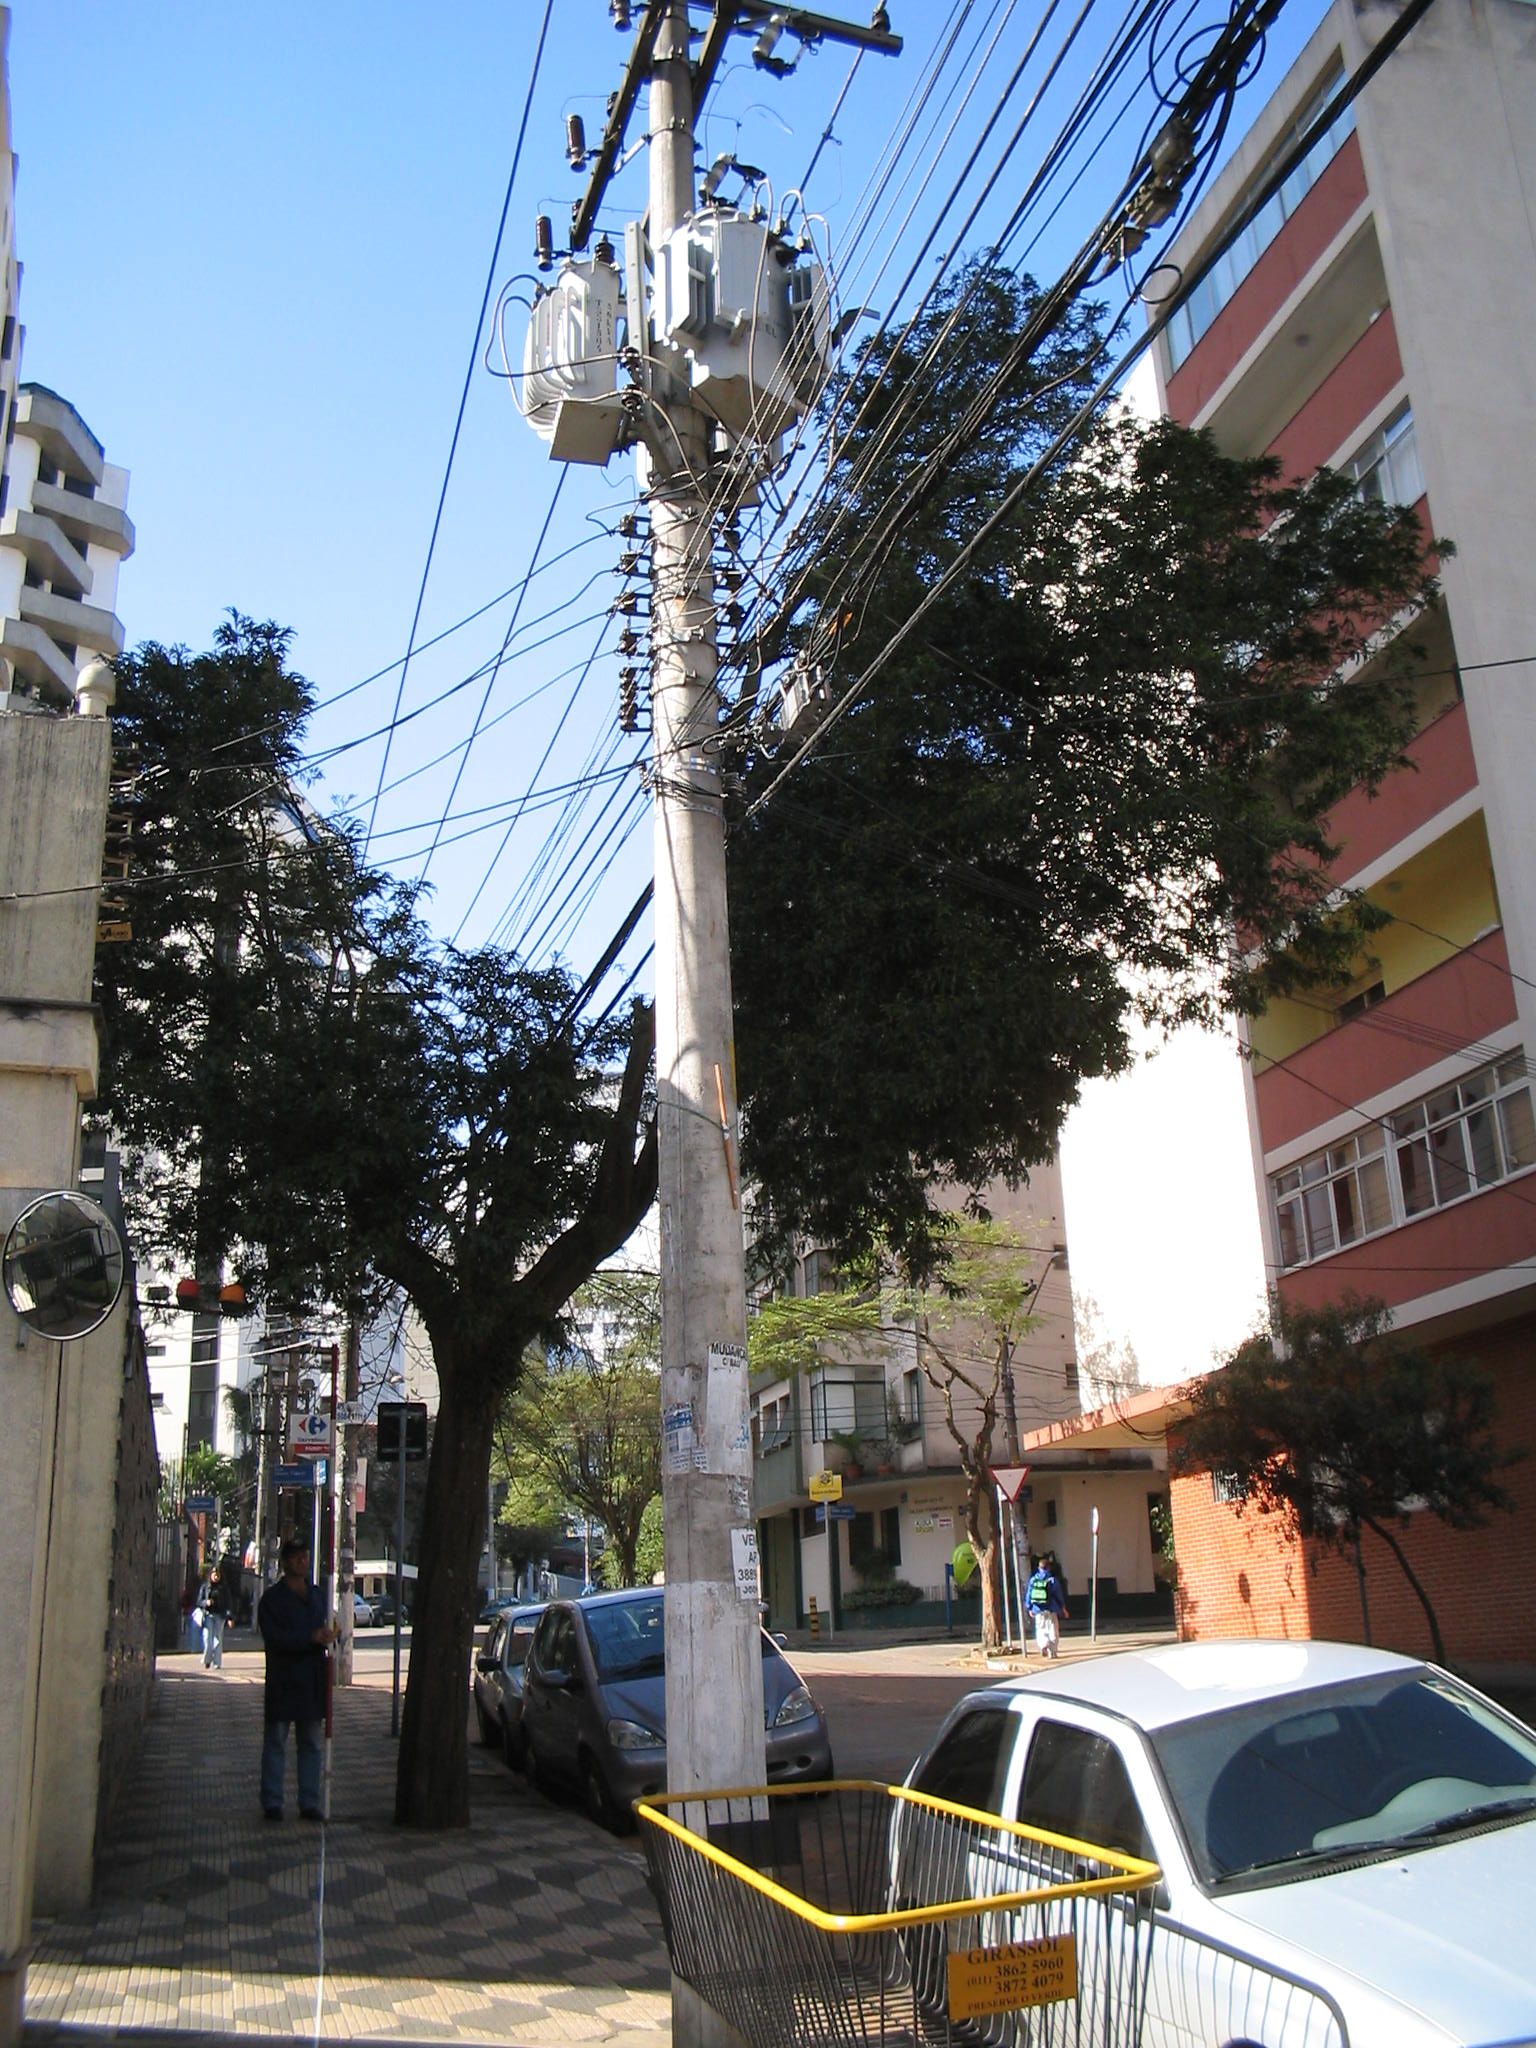crown: (106, 250, 1450, 1326)
stem: (369, 1347, 529, 1824)
stick: (303, 1347, 361, 1811)
tree: (102, 242, 1459, 1824)
